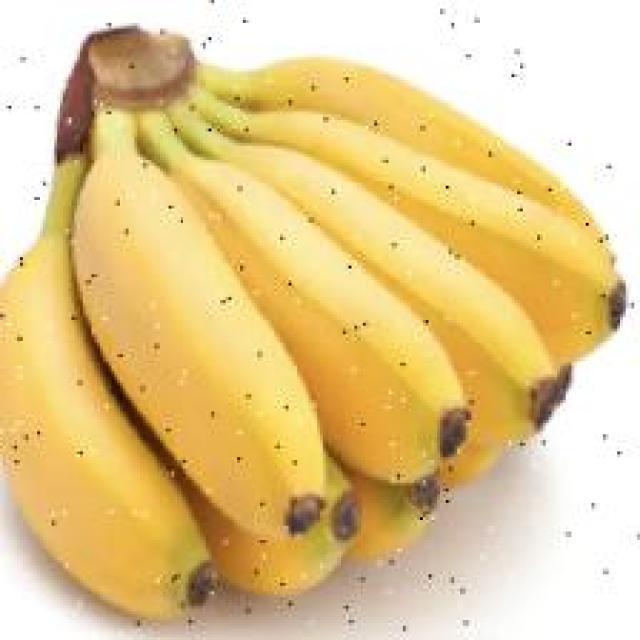banana: (9, 20, 640, 634), (223, 70, 636, 456), (140, 90, 500, 491), (48, 83, 350, 554)
